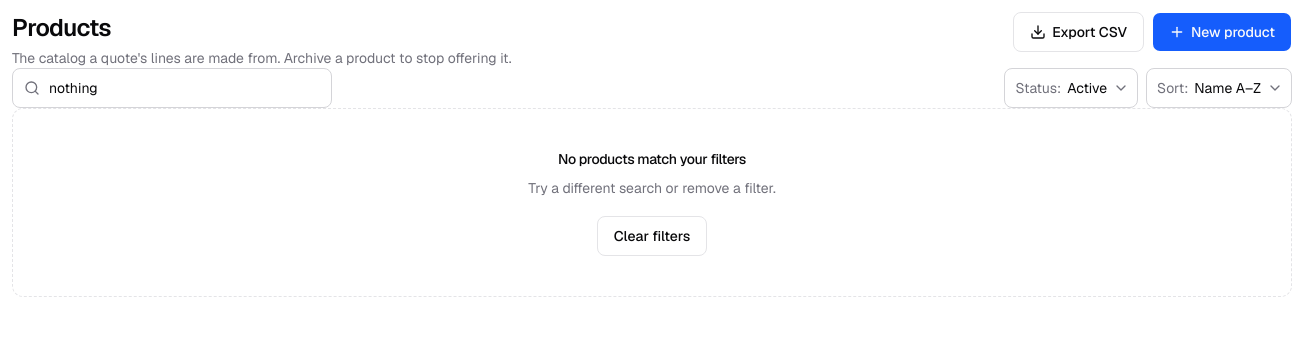
Test: ProductsPage › offers Clear filters when nothing matches, and the first product otherwise
This screenshot has width=1304, height=337.
Expected: the text "No products match your filters" is shown, [558,149,746,169]
Click the button "Clear filters": (652, 236) [597,216,707,256]
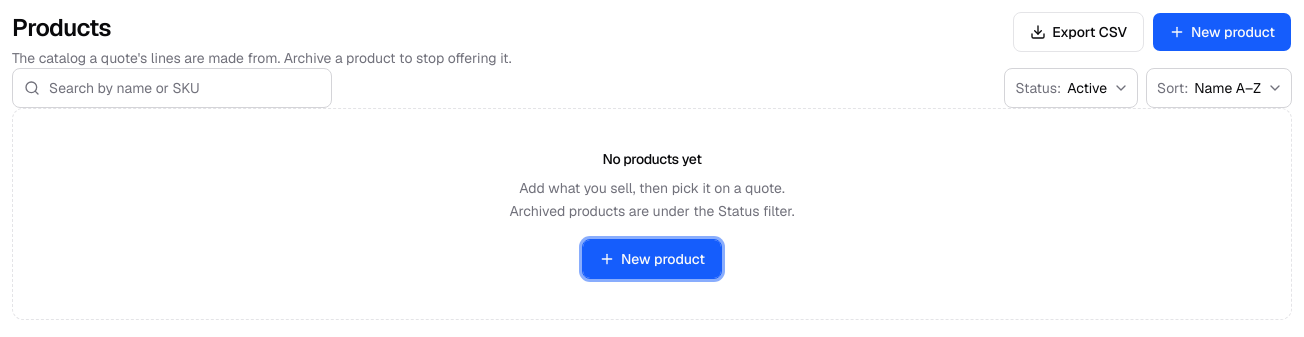
Expected: the number of buttons "New product" is 2, [1152,12,1292,52]; [582,238,722,278]
Expected: the text "No products yet" is shown, [602,149,702,169]
